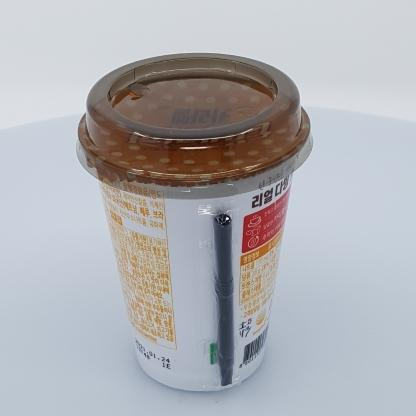---------: (76, 52, 314, 392)
